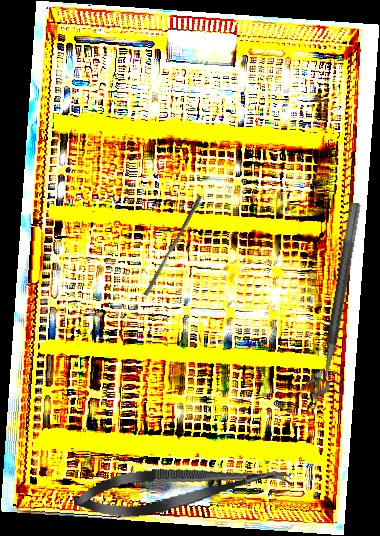Fixation Ring: (298, 198, 363, 401)
Micro Scissor: (71, 452, 293, 525)
Pusher: (143, 192, 203, 299)
